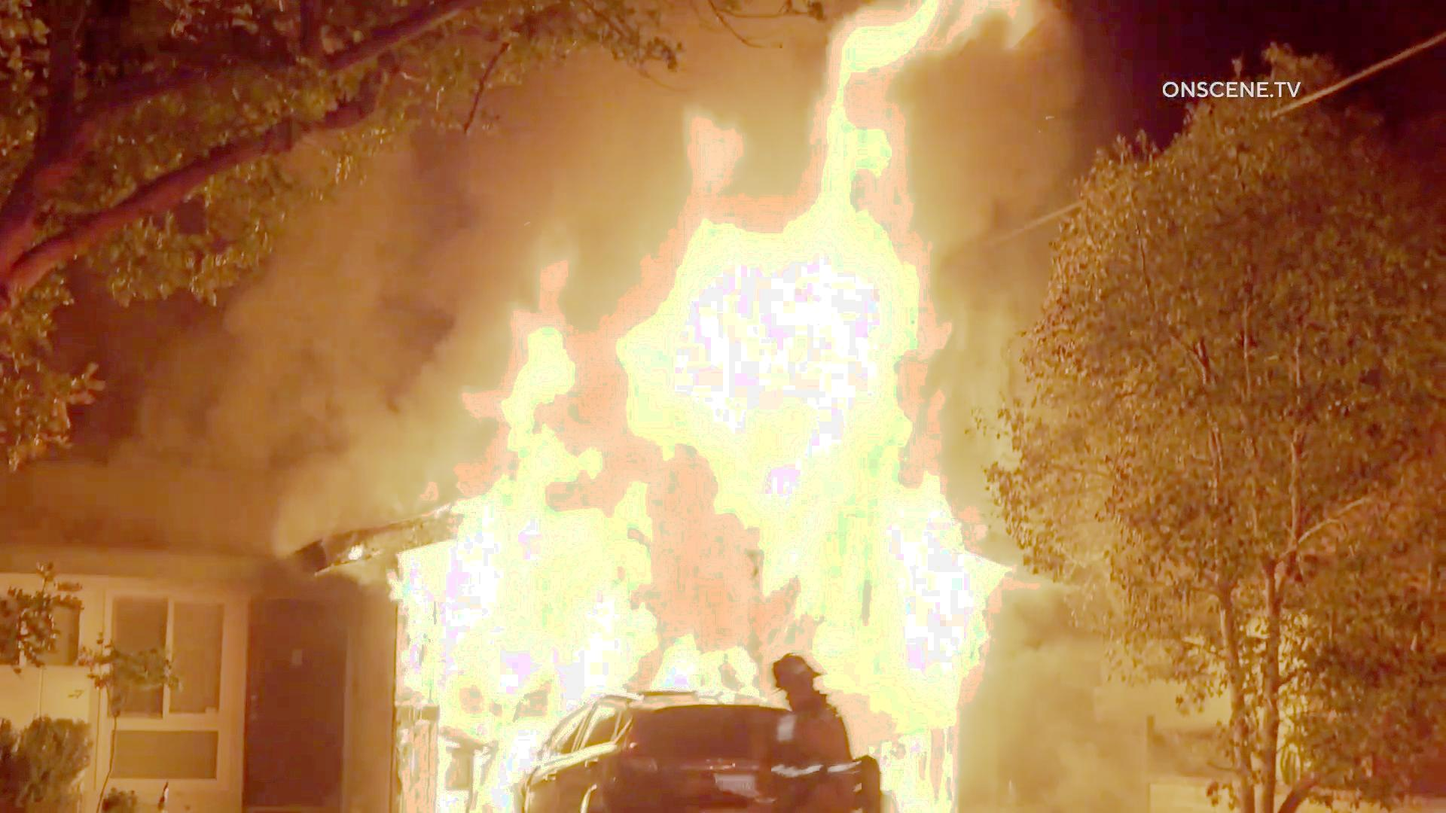fire: (748, 14, 971, 651), (584, 202, 748, 684), (481, 310, 584, 700), (416, 508, 534, 813), (865, 651, 986, 789)
smoke: (137, 326, 460, 512), (323, 187, 539, 297)
